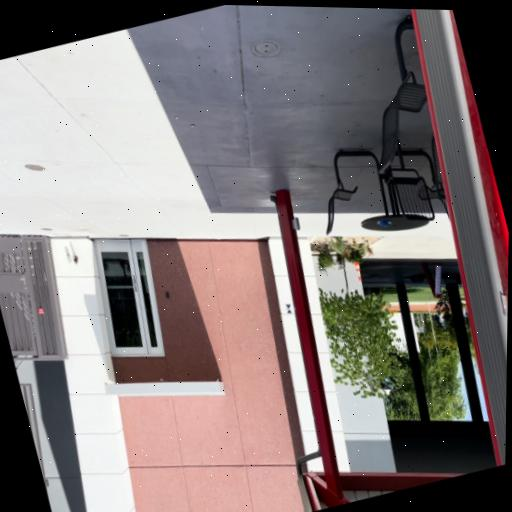target9: (285, 303, 292, 313)
